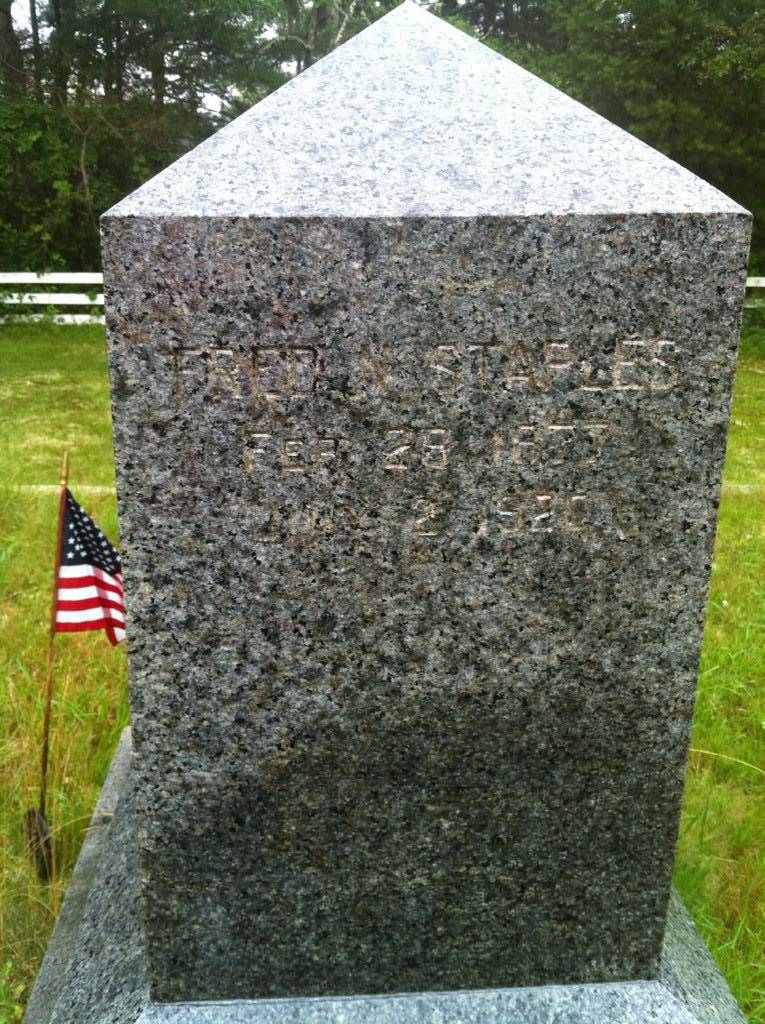obelisk: (48, 16, 752, 1003)
